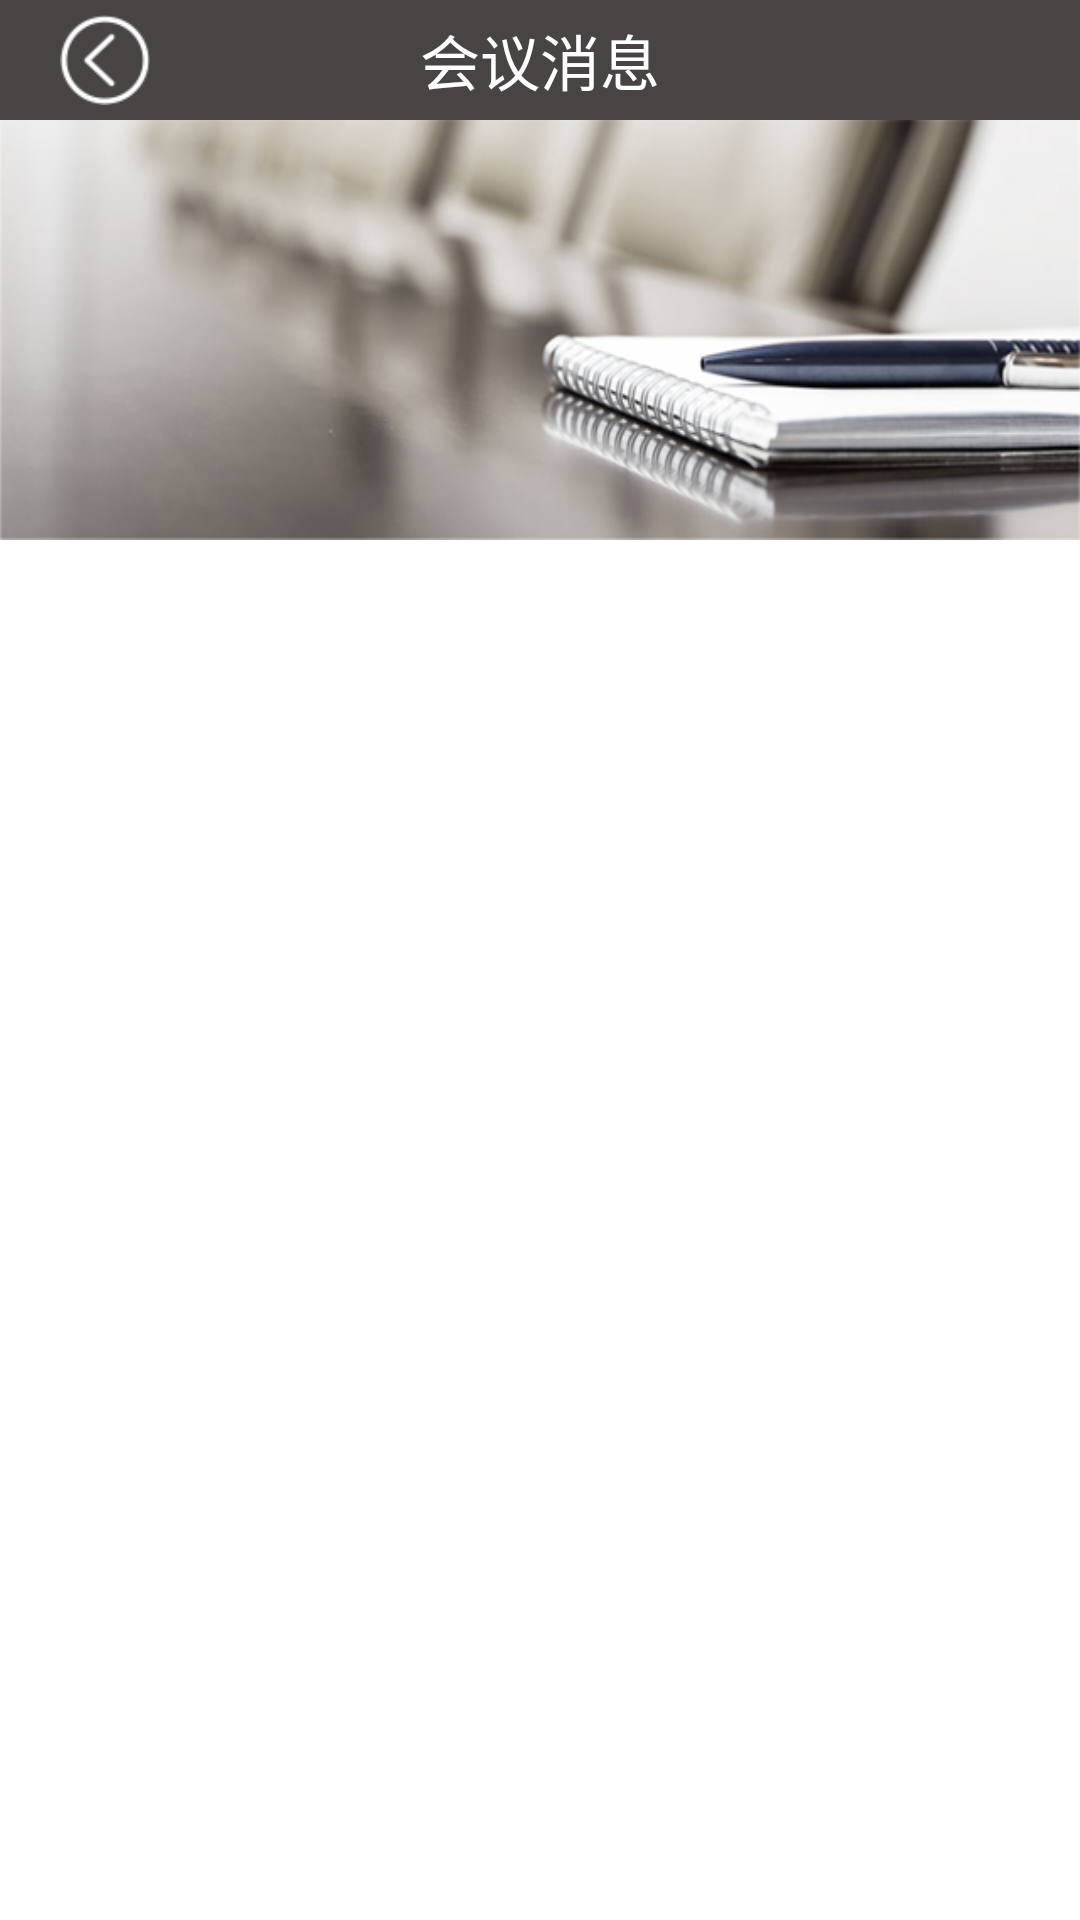

Icons on this 1080w x 1920h Android screen, each with its box as {"left": x1, "top": y1, "right": x2, "bottom": y2}:
goback: {"left": 60, "top": 15, "right": 150, "bottom": 105}
